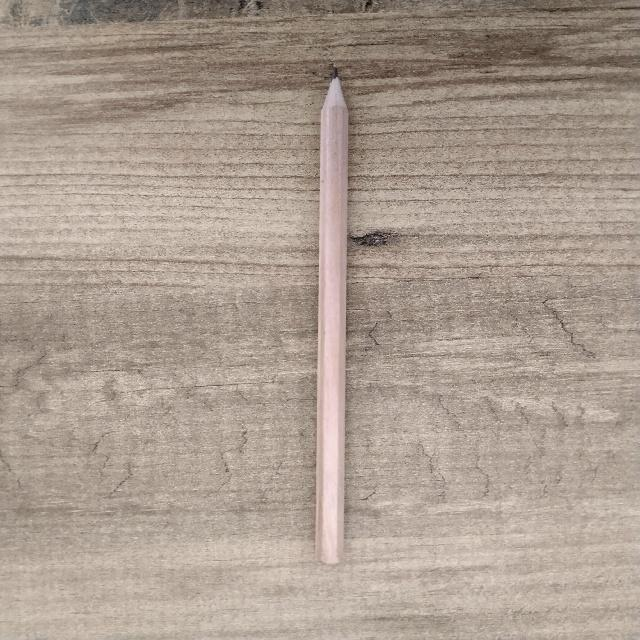pencil: (316, 70, 347, 563)
